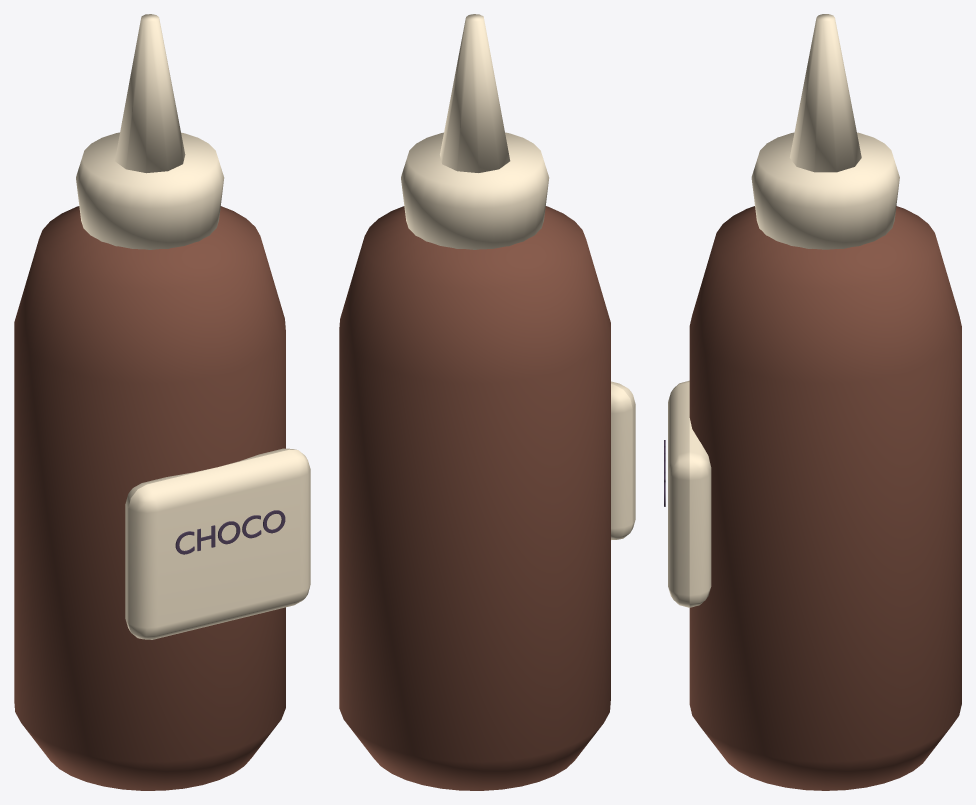
File: Chocolate_sauce_dispenser.fbx
3 views of the same model, side by side, from view 1: azimuth 30°, elevation 25°; view 2: azimuth 150°, elevation 25°; view 3: azimuth 270°, elevation 25° (orthographic).
Parts seen in each view (by area): view 1: Toon_Chocolate_sauce_dispenser Working bottle.001, Toon_Chocolate_sauce_dispenser Bottle label.001, Toon_Chocolate_sauce_dispenser Cap.001, Toon_Chocolate_sauce_dispenser Pour nozzle.001, Bottle name.007; view 2: Toon_Chocolate_sauce_dispenser Working bottle.001, Toon_Chocolate_sauce_dispenser Cap.001, Toon_Chocolate_sauce_dispenser Pour nozzle.001, Toon_Chocolate_sauce_dispenser Bottle label.001; view 3: Toon_Chocolate_sauce_dispenser Working bottle.001, Toon_Chocolate_sauce_dispenser Cap.001, Toon_Chocolate_sauce_dispenser Bottle label.001, Toon_Chocolate_sauce_dispenser Pour nozzle.001.
Boxes of the visible parts, box(x1,y1,x2,y2) form: Toon_Chocolate_sauce_dispenser Working bottle.001: box(14, 206, 285, 790); Toon_Chocolate_sauce_dispenser Bottle label.001: box(125, 448, 310, 639); Toon_Chocolate_sauce_dispenser Cap.001: box(76, 132, 224, 249); Toon_Chocolate_sauce_dispenser Pour nozzle.001: box(115, 14, 185, 173); Bottle name.007: box(175, 510, 285, 554); Toon_Chocolate_sauce_dispenser Working bottle.001: box(339, 206, 610, 790); Toon_Chocolate_sauce_dispenser Cap.001: box(401, 132, 549, 249); Toon_Chocolate_sauce_dispenser Pour nozzle.001: box(440, 14, 510, 172); Toon_Chocolate_sauce_dispenser Bottle label.001: box(611, 381, 635, 539); Toon_Chocolate_sauce_dispenser Working bottle.001: box(689, 206, 961, 790); Toon_Chocolate_sauce_dispenser Cap.001: box(751, 132, 899, 249); Toon_Chocolate_sauce_dispenser Bottle label.001: box(668, 380, 711, 607); Toon_Chocolate_sauce_dispenser Pour nozzle.001: box(789, 14, 861, 172).
Bounding box in the file's own units: 8.8 × 26 × 9.62.
